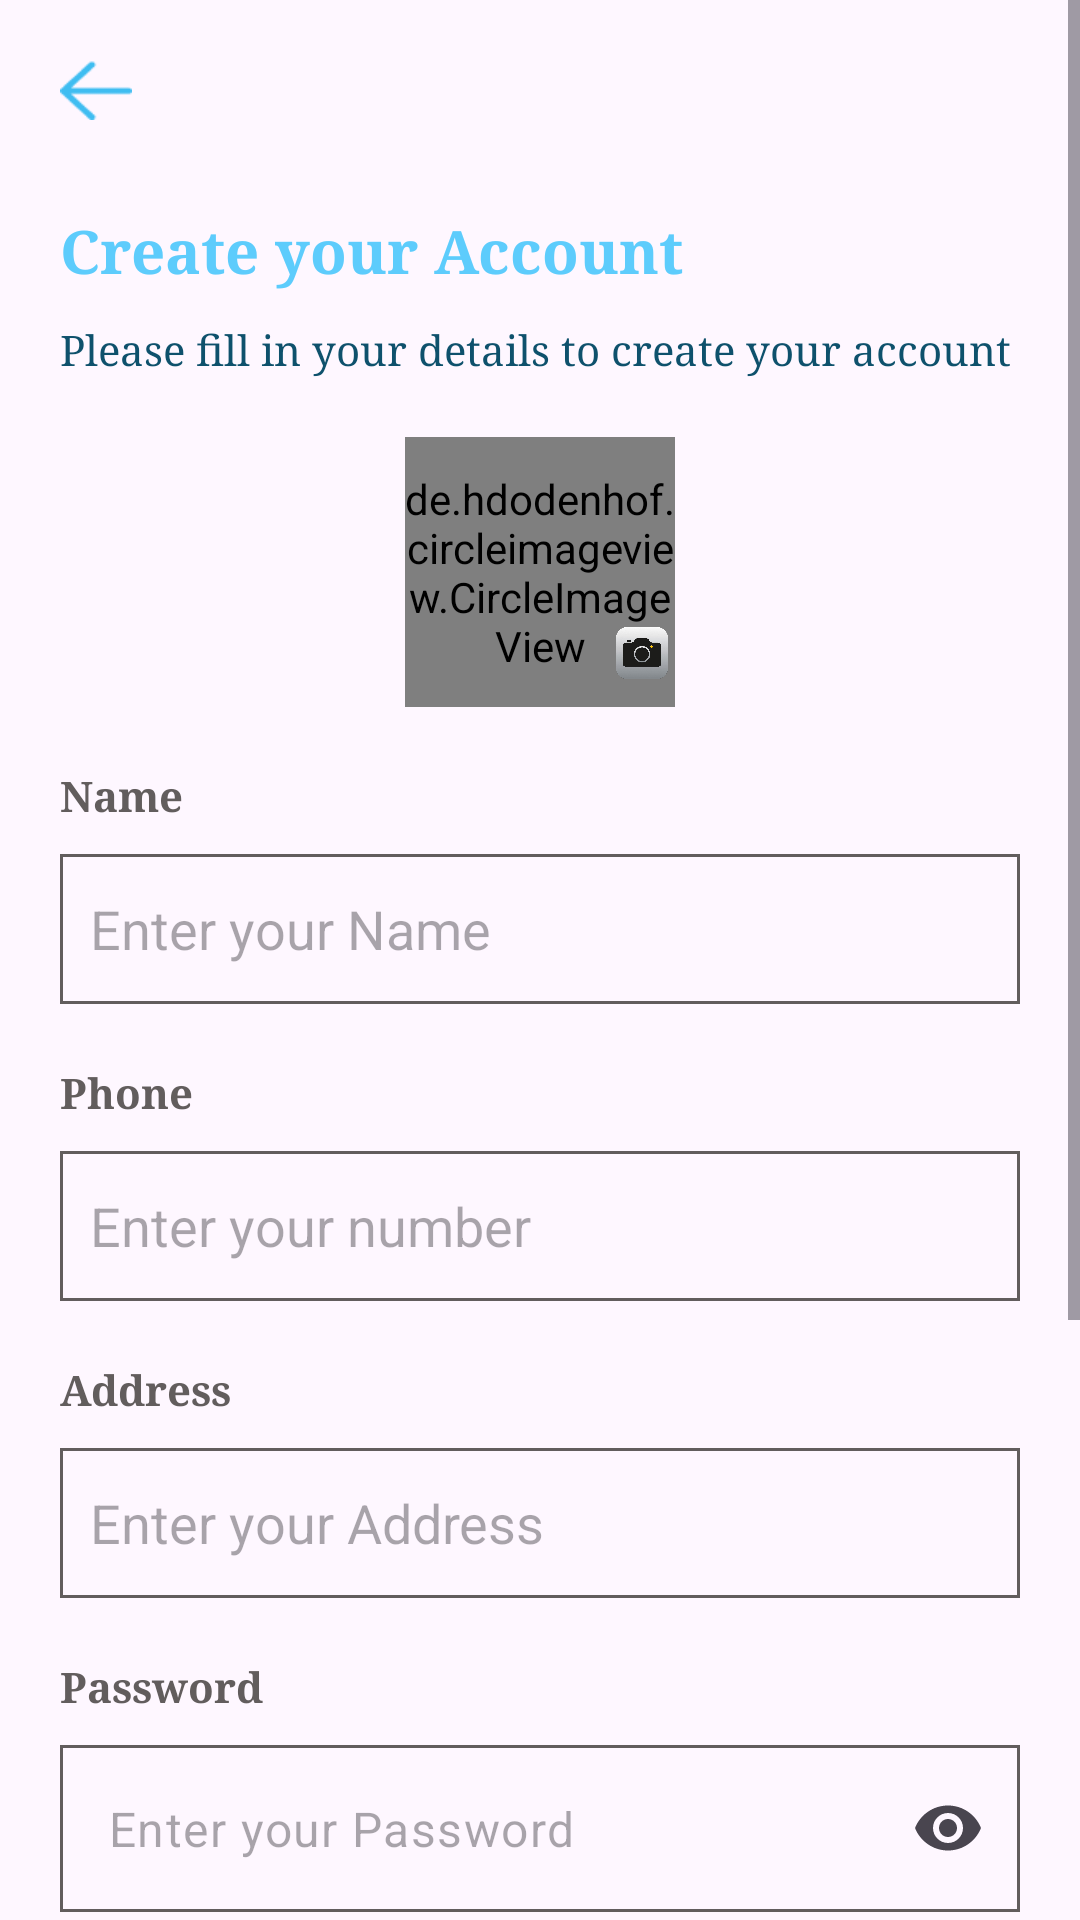

Locate icon controls on the screen. Image size 1080*1920, boxes as region(x1, y1, x2, y2).
back arrow: region(60, 61, 132, 120)
camera: region(616, 627, 668, 673)
